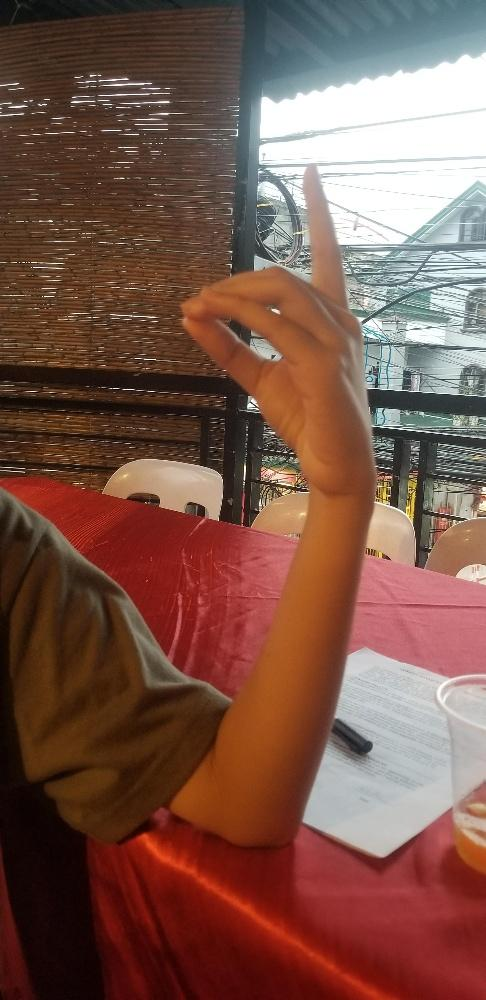d: (178, 159, 378, 493)
